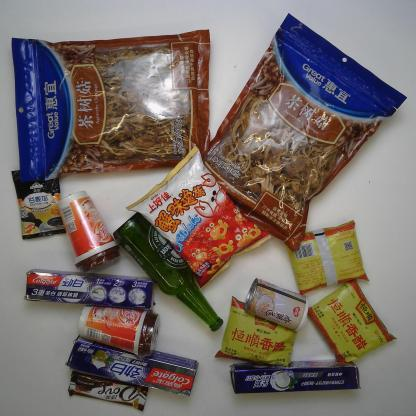Alcohol: (112, 212, 224, 332)
Canned Food: (244, 277, 311, 332)
Chocolate: (64, 368, 148, 410)
Dried Food: (196, 13, 407, 251), (10, 28, 212, 182)
Instant Drink: (56, 188, 121, 272), (74, 303, 160, 359), (8, 167, 67, 240)
Personal Hygiene: (66, 334, 199, 399), (21, 266, 156, 312), (227, 357, 362, 396)
Puffed Food: (126, 145, 272, 290)
Seasoner: (304, 277, 397, 363), (281, 218, 371, 294), (213, 296, 300, 368)
